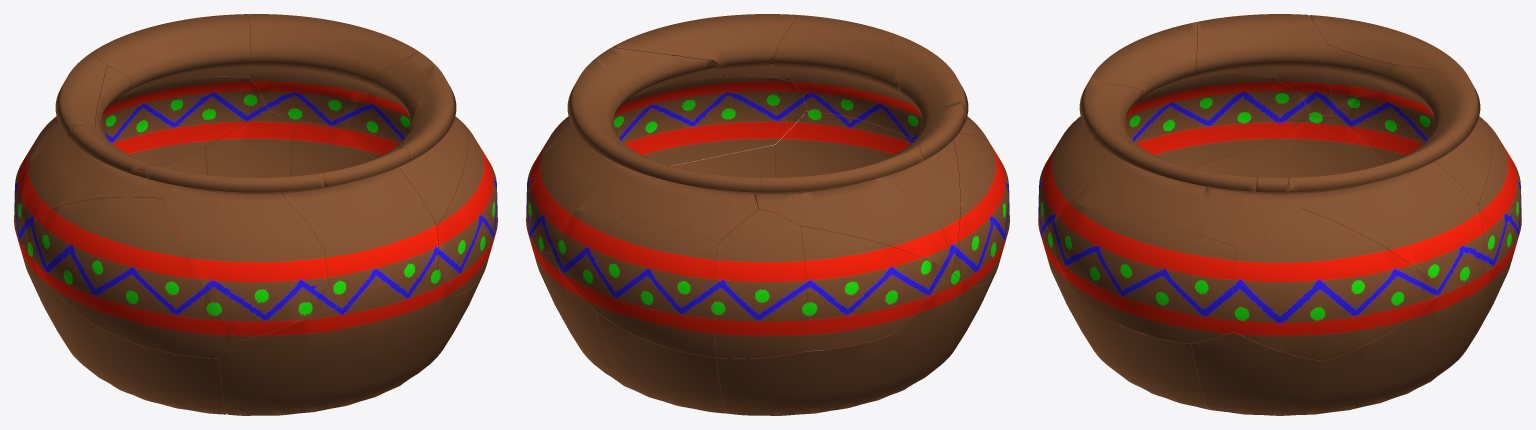
File: BrokenPot.fbx
The picture shows the model from 3 angles, left to right: view 1: azimuth 30°, elevation 25°; view 2: azimuth 150°, elevation 25°; view 3: azimuth 270°, elevation 25°; orthographic projection.
Visible parts, largest first — view 1: Circle_cell.021, Circle_cell.020, Circle_cell.006, Circle_cell.016, Circle_cell.012, Circle_cell.004, Circle_cell.009, Circle_cell.018, Circle_cell.001, Circle_cell.014, Circle_cell.005, Circle_cell.010 (+9 smaller); view 2: Circle_cell.004, Circle_cell.014, Circle_cell.003, Circle_cell.008, Circle_cell.016, Circle_cell.010, Circle_cell.018, Circle_cell.022, Circle_cell.012, Circle_cell.001, Circle_cell.021, Circle_cell.020 (+11 smaller); view 3: Circle_cell.015, Circle_cell.014, Circle_cell.012, Circle_cell.021, Circle_cell.001, Circle_cell.005, Circle_cell.011, Circle_cell.013, Circle_cell.016, Circle_cell.007, Circle_cell.018, Circle_cell.010 (+9 smaller).
Part boxes in pixels (x1,y1,x2,y2): Circle_cell.021: (28, 197, 237, 358); Circle_cell.020: (219, 270, 455, 415); Circle_cell.006: (144, 163, 328, 341); Circle_cell.016: (281, 147, 438, 313); Circle_cell.012: (249, 14, 418, 125); Circle_cell.004: (101, 76, 267, 166); Circle_cell.009: (51, 288, 226, 414); Circle_cell.018: (91, 14, 250, 94); Circle_cell.001: (391, 64, 467, 225); Circle_cell.014: (437, 126, 497, 295); Circle_cell.005: (26, 125, 172, 240); Circle_cell.010: (21, 53, 106, 233); Circle_cell.004: (551, 210, 718, 357); Circle_cell.014: (613, 76, 807, 165); Circle_cell.003: (800, 226, 947, 351); Circle_cell.008: (713, 209, 807, 358); Circle_cell.016: (773, 15, 922, 140); Circle_cell.010: (761, 147, 950, 271); Circle_cell.018: (577, 139, 761, 242); Circle_cell.022: (716, 335, 890, 415); Circle_cell.012: (528, 58, 629, 252); Circle_cell.001: (612, 14, 797, 96); Circle_cell.021: (952, 133, 1009, 286); Circle_cell.020: (775, 111, 914, 177); Circle_cell.015: (1233, 208, 1439, 361); Circle_cell.014: (1051, 203, 1236, 343); Circle_cell.012: (1289, 135, 1484, 293); Circle_cell.021: (1125, 72, 1310, 168); Circle_cell.001: (1068, 125, 1257, 247); Circle_cell.005: (1188, 14, 1336, 115); Circle_cell.011: (1315, 281, 1466, 414); Circle_cell.013: (1191, 331, 1323, 415); Circle_cell.016: (1038, 82, 1143, 233); Circle_cell.007: (1073, 291, 1210, 409); Circle_cell.018: (1422, 57, 1491, 204); Circle_cell.010: (1309, 15, 1450, 108).
Bounding box in the file's own units: 272 × 151 × 272.
